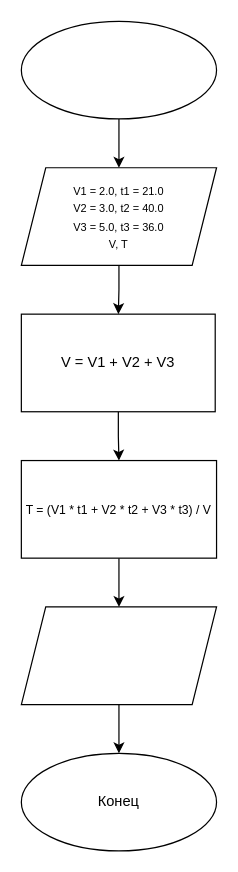
This 238x872 diagram has some shape labels left out. Each missing label, with the centre of its shape:
V1, V2, V3 t1, t2, t3 V, T: point 118,655
Начало: point 118,69
